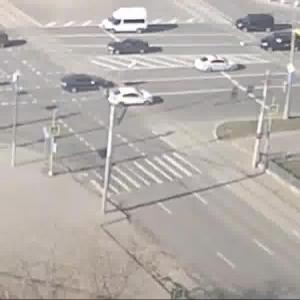car: (96, 6, 154, 36), (54, 64, 107, 94), (97, 86, 156, 110), (196, 53, 246, 78), (111, 31, 151, 61), (236, 15, 282, 38), (257, 32, 300, 54)
